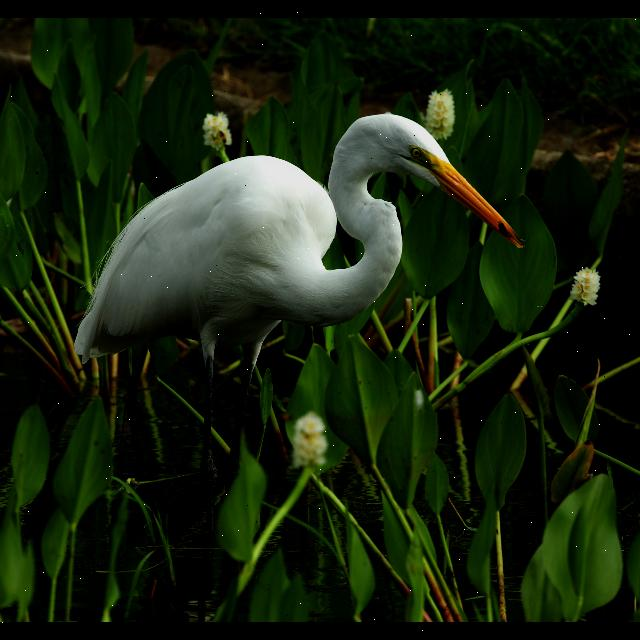egret: (76, 110, 518, 460)
